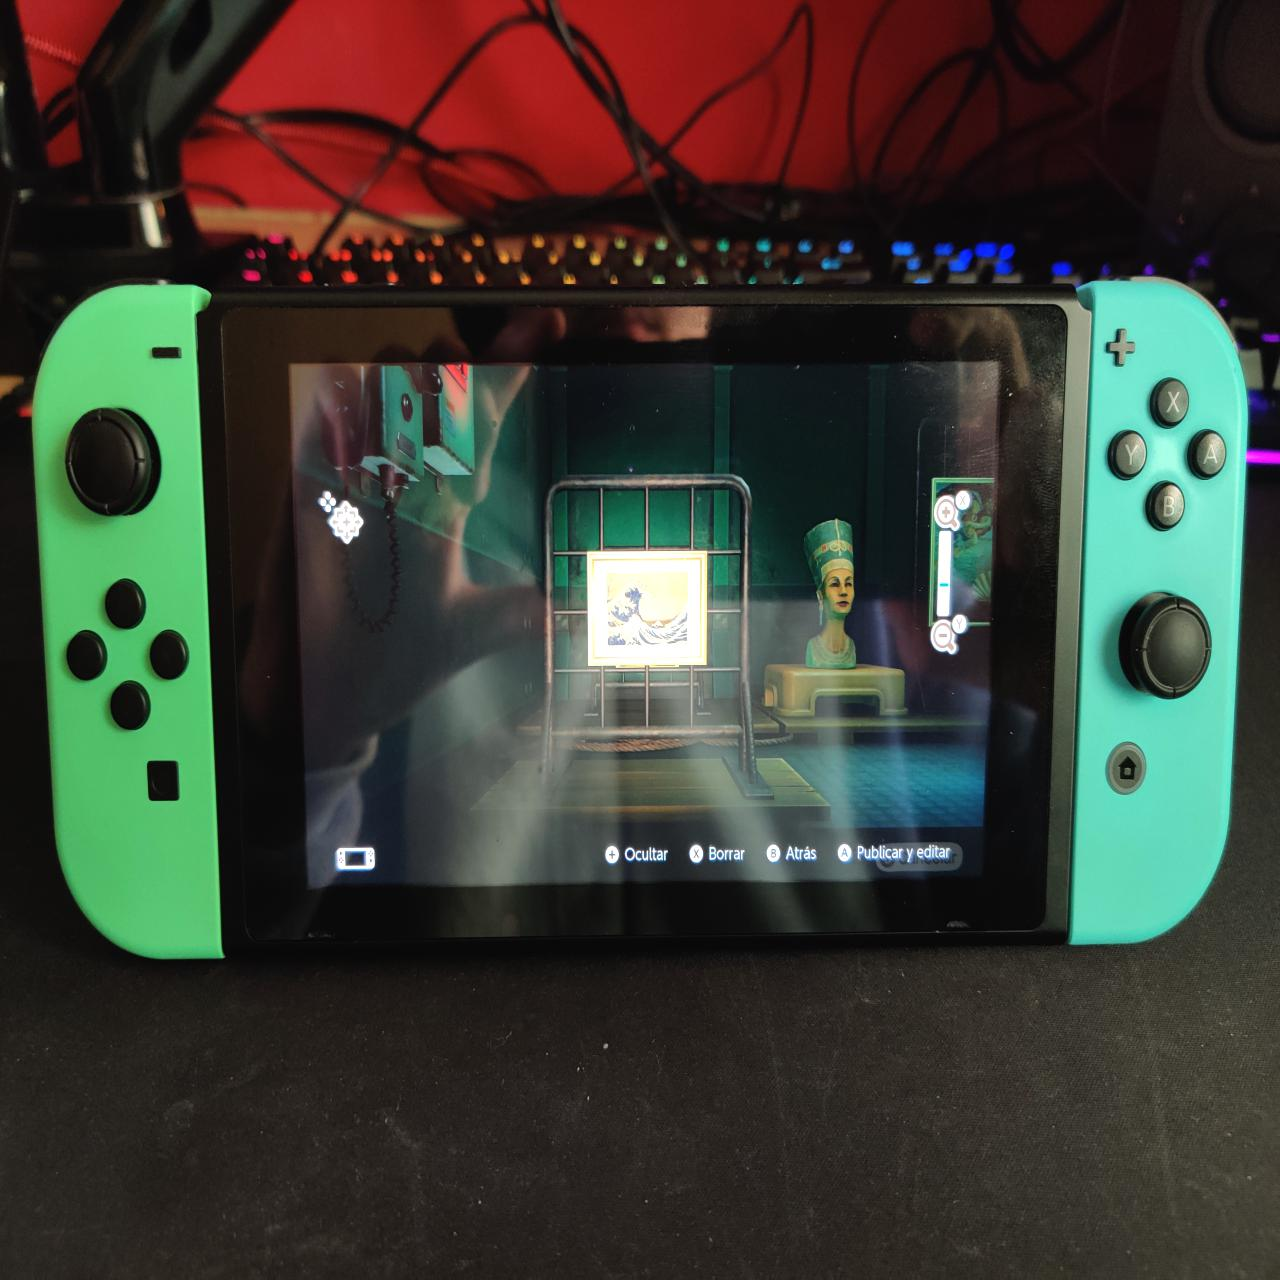Kanagawa: (607, 574, 689, 651)
NefertitiFake: (808, 517, 862, 667)
